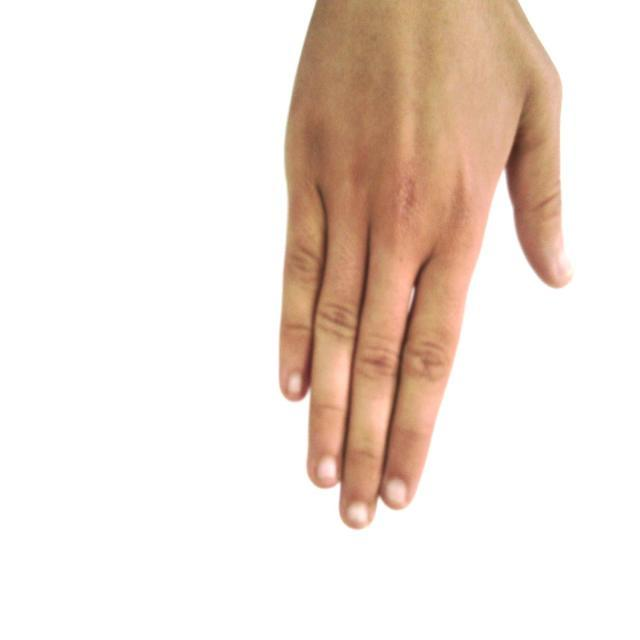Fingernail: (347, 503, 369, 527), (385, 479, 406, 504), (319, 459, 337, 483), (558, 248, 572, 278), (288, 374, 302, 396)
